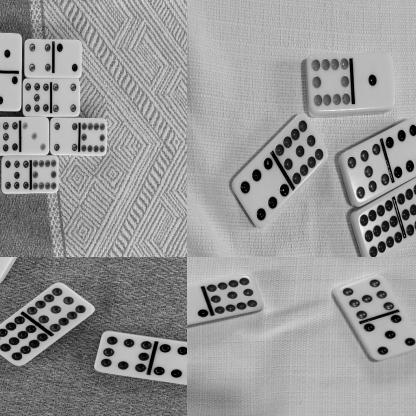pip-1: (353, 51, 394, 109), (0, 31, 22, 71)
pip-10: (306, 53, 352, 112), (79, 116, 107, 156), (30, 155, 58, 194)
pip-11: (275, 112, 326, 185), (25, 280, 94, 332), (207, 274, 261, 314)
pip-12: (359, 198, 401, 257), (0, 313, 46, 365), (396, 177, 416, 234)
pip-2: (52, 38, 82, 77), (187, 285, 209, 329), (0, 71, 21, 111)
pip-3: (20, 116, 49, 155)
pip-4: (49, 116, 79, 156), (23, 39, 52, 76), (51, 80, 80, 116)
pip-5: (364, 314, 416, 358)
pip-6: (232, 155, 288, 229), (385, 116, 416, 177), (152, 342, 187, 386)
pip-7: (334, 274, 393, 319), (342, 143, 388, 200), (0, 156, 31, 195), (22, 77, 50, 116), (0, 115, 19, 155)
pip-8: (92, 329, 152, 376)
